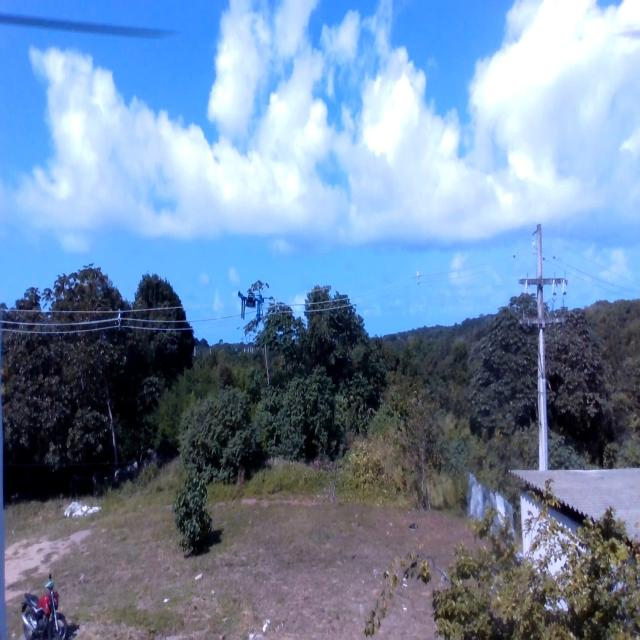-uav-: (231, 279, 273, 334)
